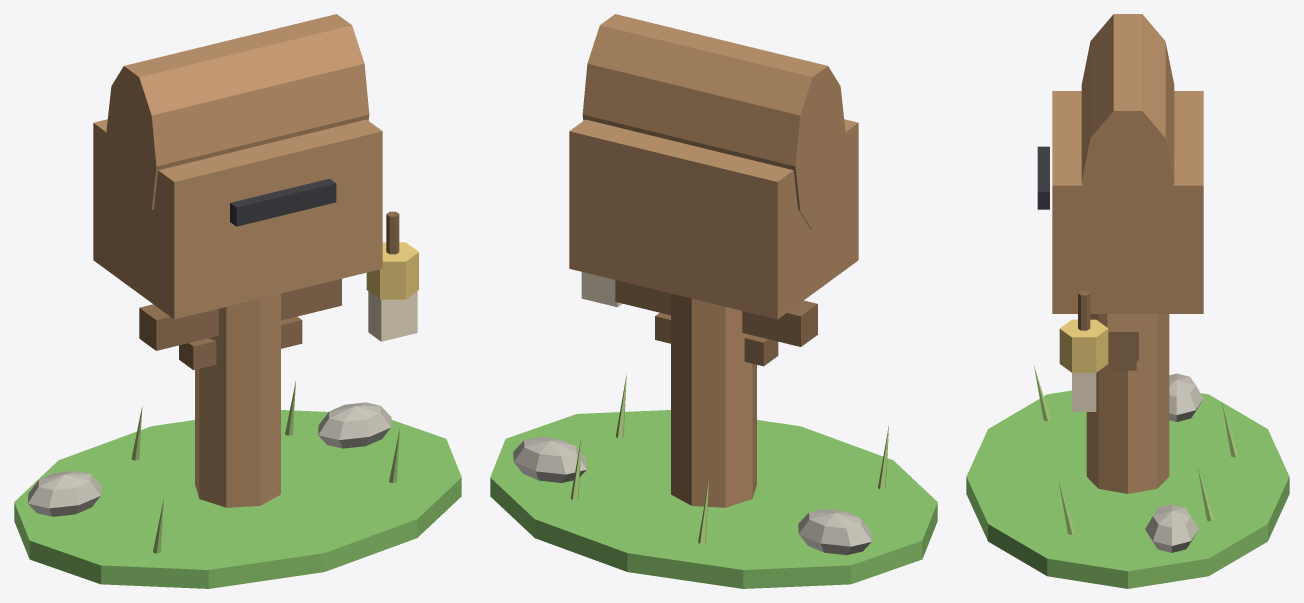
3 renders of one model, left to right at view 1: azimuth 30°, elevation 25°; view 2: azimuth 150°, elevation 25°; view 3: azimuth 270°, elevation 25°, orthographic. The views are drawn at different scales.
Parts seen in each view (by area): view 1: round grass base, warm barrel mailbox box, rounded barrel roof, short rounded wooden post, chunky cross support, large dark mail slot, small rock, small rock.001, simple hanging lantern, warm lantern glass, small lower brace, tiny lantern hanger; view 2: round grass base, warm barrel mailbox box, rounded barrel roof, short rounded wooden post, chunky cross support, small rock.001, small rock, small lower brace, warm lantern glass; view 3: round grass base, warm barrel mailbox box, rounded barrel roof, short rounded wooden post, simple hanging lantern, small rock, chunky cross support, small rock.001, warm lantern glass, large dark mail slot, tiny lantern hanger.
Part boxes in pixels (box(x1,y1,x2,y2)): round grass base: box(14, 410, 461, 588); warm barrel mailbox box: box(93, 119, 382, 319); rounded barrel roof: box(106, 14, 369, 230); short rounded wooden post: box(195, 293, 280, 507); chunky cross support: box(139, 278, 341, 350); large dark mail slot: box(230, 178, 336, 226); small rock: box(318, 402, 391, 448); small rock.001: box(27, 470, 101, 516); simple hanging lantern: box(366, 242, 418, 299); warm lantern glass: box(368, 291, 417, 341); small lower brace: box(179, 316, 302, 370); tiny lantern hanger: box(386, 211, 399, 254); round grass base: box(490, 410, 937, 588); warm barrel mailbox box: box(569, 119, 858, 319); rounded barrel roof: box(582, 14, 845, 230); short rounded wooden post: box(671, 293, 756, 507); chunky cross support: box(615, 280, 817, 346); small rock.001: box(798, 509, 871, 554); small rock: box(513, 437, 586, 482); small lower brace: box(655, 313, 778, 366); warm lantern glass: box(581, 272, 622, 307); round grass base: box(966, 390, 1289, 588); warm barrel mailbox box: box(1052, 91, 1203, 313); rounded barrel roof: box(1081, 14, 1174, 253); short rounded wooden post: box(1086, 314, 1169, 493); simple hanging lantern: box(1059, 319, 1108, 372); small rock: box(1145, 504, 1198, 552); chunky cross support: box(1107, 314, 1138, 360); small rock.001: box(1169, 373, 1203, 421); warm lantern glass: box(1072, 372, 1096, 411); large dark mail slot: box(1037, 146, 1049, 209); tiny lantern hanger: box(1078, 291, 1090, 330).
Size of the model in its own units: 1.84 by 1.97 by 1.32.
